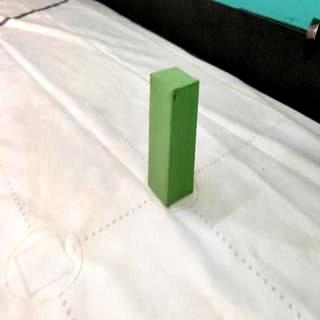greenbox: (146, 67, 200, 210)
